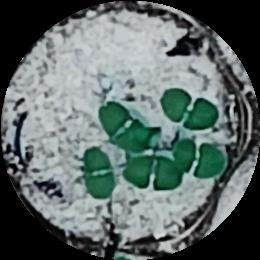Basil: (166, 86, 215, 133), (125, 154, 184, 190), (173, 141, 226, 177), (102, 108, 149, 144), (82, 146, 114, 197)
